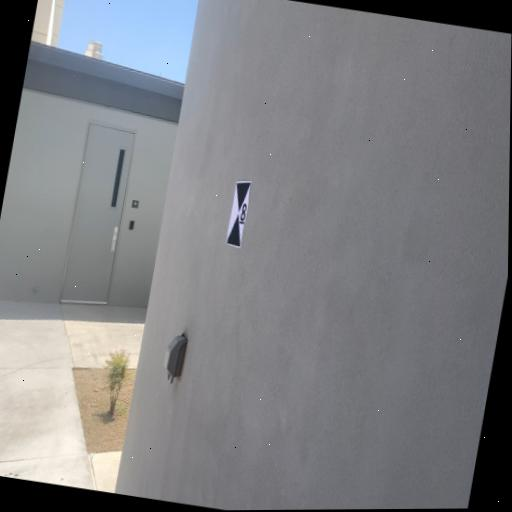target8: (224, 180, 252, 246)
